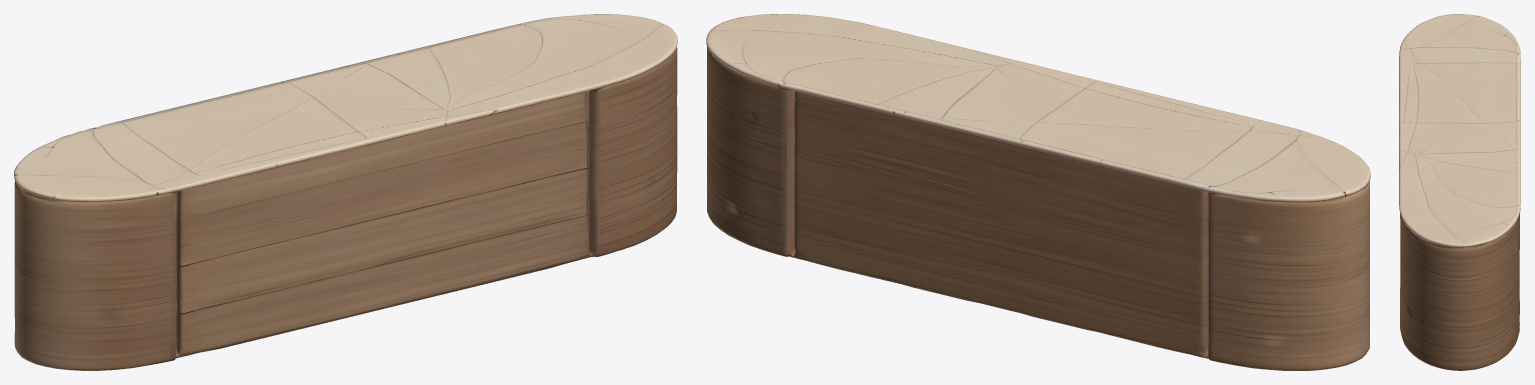
File: tv-unit.glb
3 views of the same model, side by side, from view 1: azimuth 30°, elevation 25°; view 2: azimuth 150°, elevation 25°; view 3: azimuth 270°, elevation 25° (orthographic). The views are drawn at different scales.
Visible parts, largest first — view 1: model; view 2: model; view 3: model.
Boxes of the visible parts, <box> form: model: <box>14,14,677,370</box>; model: <box>706,14,1370,370</box>; model: <box>1399,14,1520,370</box>.
Size of the model in its own units: 1.8 by 0.5 by 0.4.
1 material, 1 textured.
